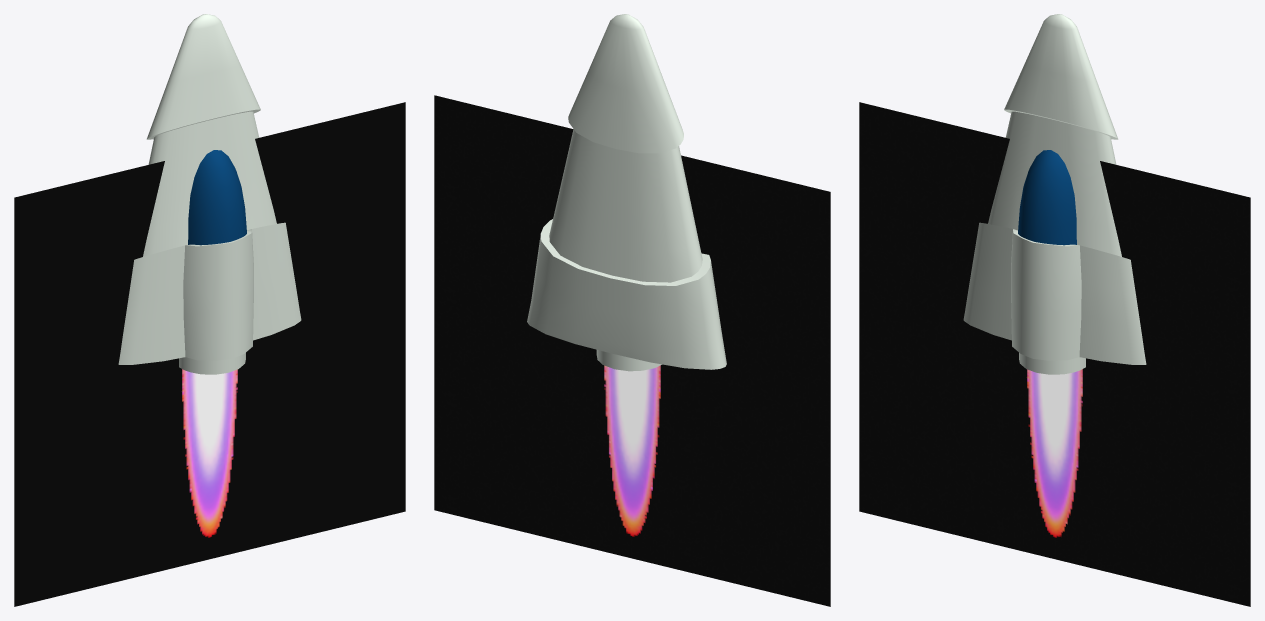
Rendered from asteroids-spacecraft.gltf.
The picture shows the model from 3 angles, left to right: view 1: azimuth 30°, elevation 25°; view 2: azimuth 150°, elevation 25°; view 3: azimuth 330°, elevation 25°; orthographic projection.
Visible parts, largest first — view 1: exhaust-sprite, spacecraft; view 2: exhaust-sprite, spacecraft; view 3: exhaust-sprite, spacecraft.
Part boxes in pixels (box(x1,y1,x2,y2)): exhaust-sprite: box(14, 102, 405, 606); spacecraft: box(118, 14, 301, 374); exhaust-sprite: box(434, 95, 830, 606); spacecraft: box(527, 14, 726, 371); exhaust-sprite: box(859, 102, 1250, 606); spacecraft: box(963, 14, 1146, 374).
Size of the model in its own units: 15 by 19.81 by 2.91.
Materials: 3 (1 with a texture image).
